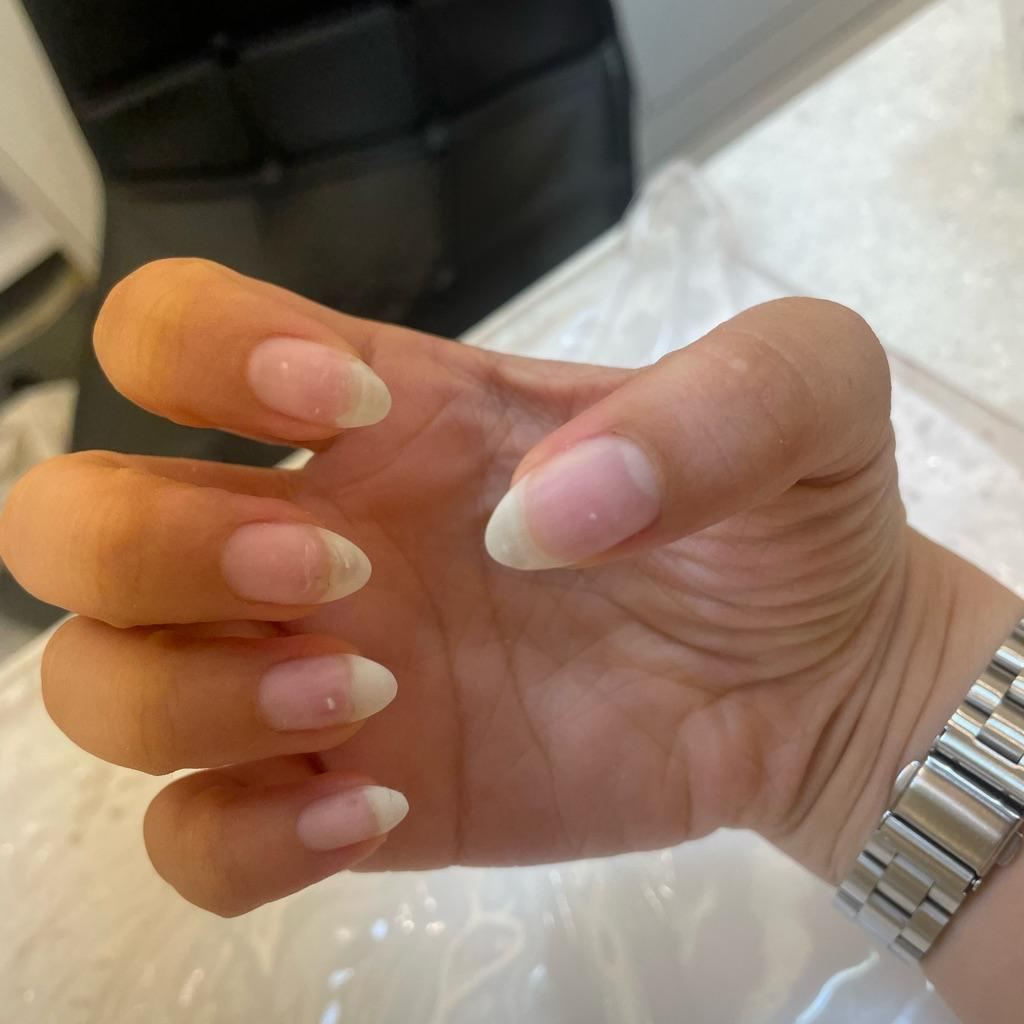nail: (483, 432, 662, 571), (244, 333, 392, 430), (219, 519, 371, 606), (254, 651, 398, 732), (295, 783, 409, 853)
